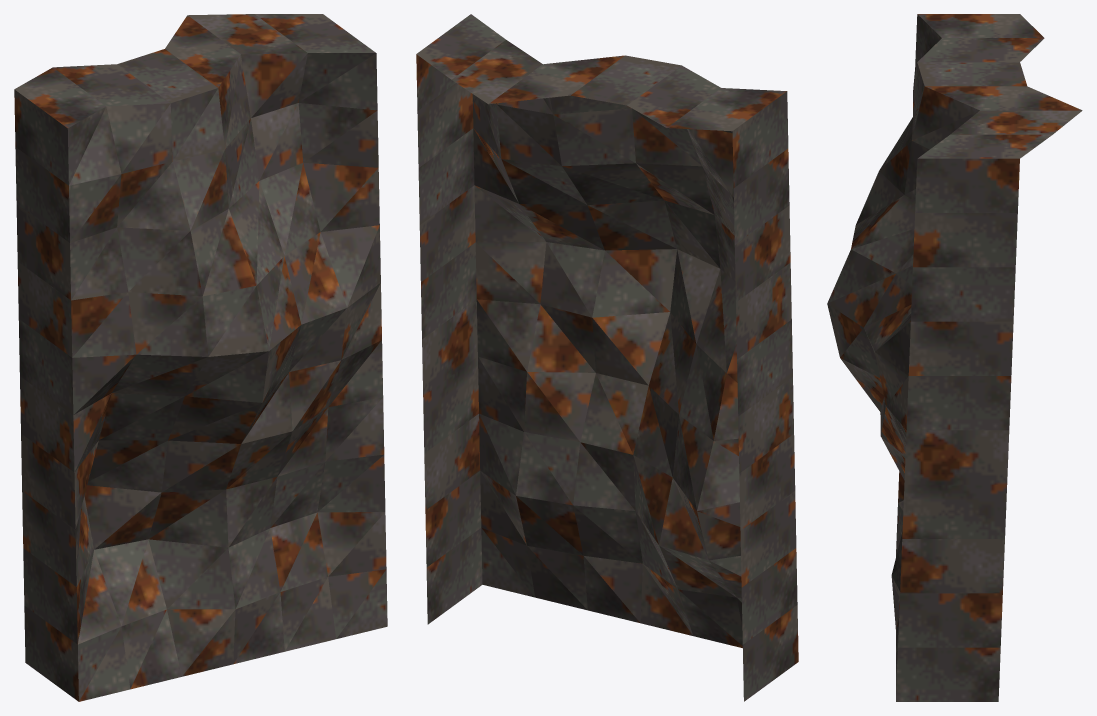
The model's file is SM_cliff_tall.fbx.
3 views of the same model, side by side, from view 1: azimuth 30°, elevation 25°; view 2: azimuth 150°, elevation 25°; view 3: azimuth 270°, elevation 25° (orthographic). The views are drawn at different scales.
Parts seen in each view (by area): view 1: cliff_tall; view 2: cliff_tall; view 3: cliff_tall.
Boxes of the visible parts, left/top/right/bottom form: cliff_tall: left=14, top=14, right=387, bottom=701; cliff_tall: left=416, top=14, right=798, bottom=701; cliff_tall: left=827, top=14, right=1082, bottom=701.
Bounding box in the file's own units: 4 × 7 × 2.99.
